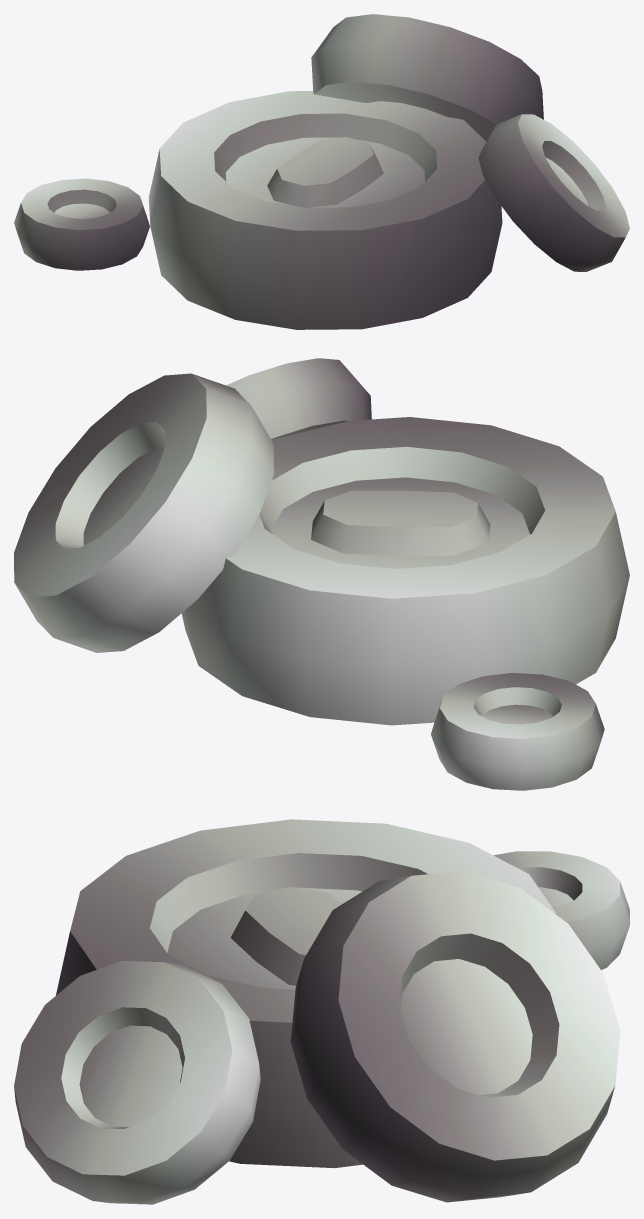
The model's file is Silver_Coin_04.glb.
3 renders of one model, top to bottom at view 1: azimuth 30°, elevation 25°; view 2: azimuth 150°, elevation 25°; view 3: azimuth 270°, elevation 25°, orthographic. The views are drawn at different scales.
Parts seen in each view (by area): view 1: Silver_Coin_04; view 2: Silver_Coin_04; view 3: Silver_Coin_04.
Boxes of the visible parts, left/top/right/bottom form: Silver_Coin_04: left=14, top=14, right=629, bottom=329; Silver_Coin_04: left=14, top=358, right=629, bottom=790; Silver_Coin_04: left=14, top=819, right=629, bottom=1204.
Size of the model in its own units: 0.5607 by 0.2144 by 0.4366.
1 material, 1 textured.
